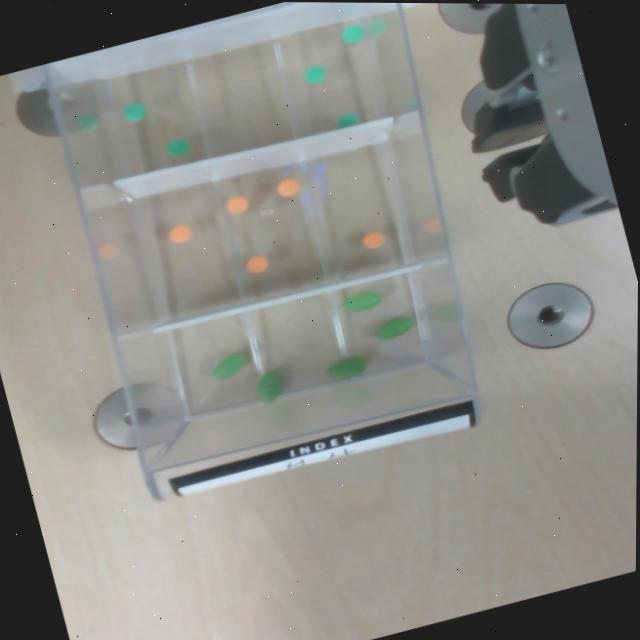famodine: (163, 134, 191, 158), (120, 99, 147, 122), (301, 62, 328, 84), (340, 22, 365, 43), (334, 110, 359, 128)
otillen_tab: (207, 348, 249, 380), (371, 312, 415, 342), (323, 353, 366, 382), (340, 287, 383, 314), (252, 368, 284, 403), (210, 351, 249, 379), (373, 316, 412, 339), (326, 357, 365, 378), (256, 370, 282, 401), (342, 291, 381, 311)
samsung_octylonium_tab: (360, 228, 386, 250), (274, 176, 300, 197), (223, 193, 249, 214), (166, 222, 191, 243), (244, 253, 268, 274)
